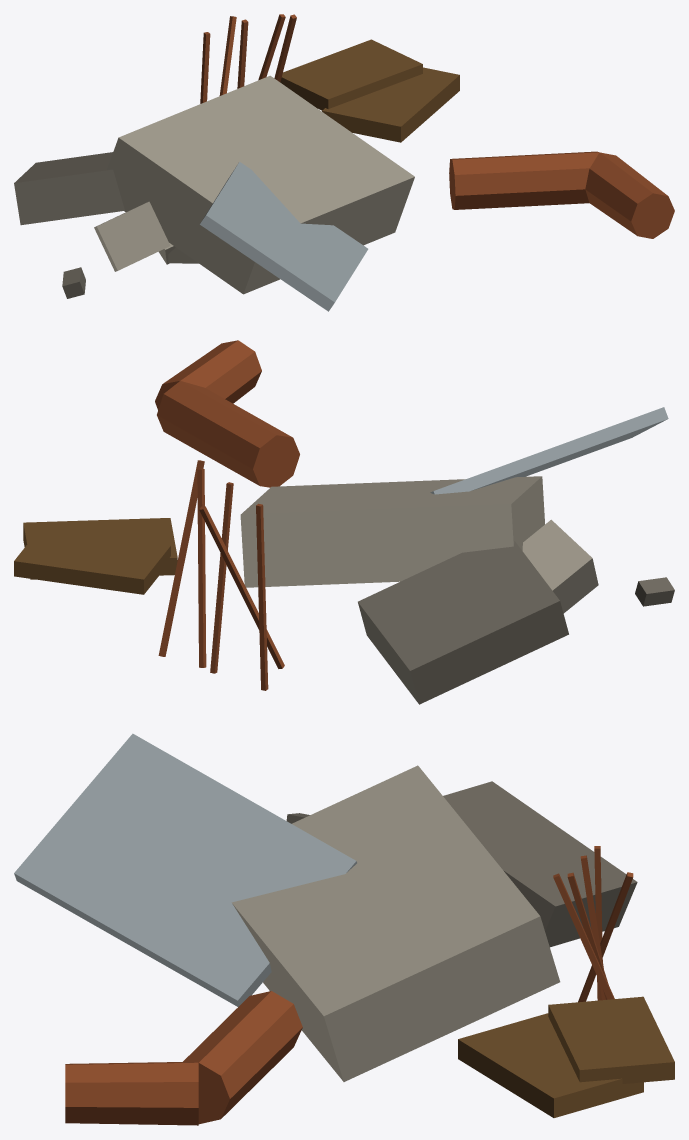
File: ChemPlant_Debris.fbx
The picture shows the model from 3 angles, top to bottom: view 1: azimuth 30°, elevation 25°; view 2: azimuth 150°, elevation 25°; view 3: azimuth 270°, elevation 25°; orthographic projection. The views are drawn at different scales.
Parts seen in each view (by area): view 1: ChemPlant_Debris; view 2: ChemPlant_Debris; view 3: ChemPlant_Debris.
Boxes of the visible parts, x1=… form: ChemPlant_Debris: x1=14, y1=14, x2=674, y2=311; ChemPlant_Debris: x1=14, y1=340, x2=674, y2=704; ChemPlant_Debris: x1=14, y1=733, x2=674, y2=1125.
Size of the model in its own units: 617 by 204 by 544.
